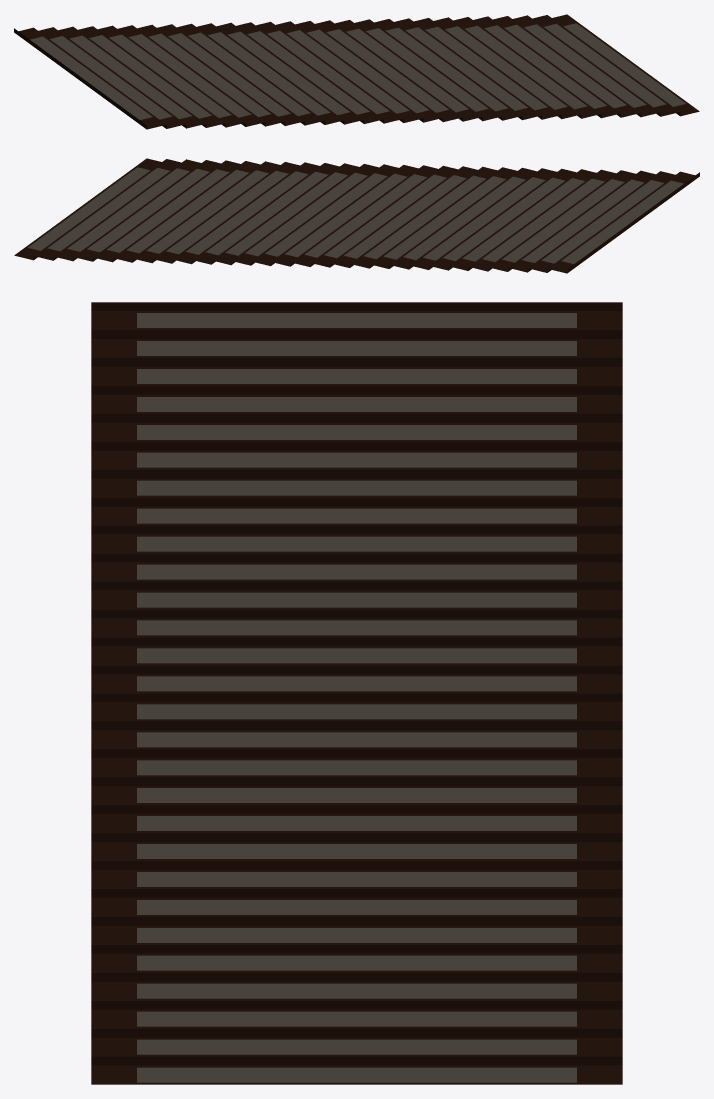
File: 05_EscalerasAbajo.fbx
3 views of the same model, one above another, from view 1: azimuth 30°, elevation 25°; view 2: azimuth 150°, elevation 25°; view 3: azimuth 270°, elevation 25° (orthographic). The views are drawn at different scales.
Visible parts, largest first — view 1: 05_EscalerasAbajo; view 2: 05_EscalerasAbajo; view 3: 05_EscalerasAbajo.
Boxes of the visible parts, x1,y1,x2,y2 form: 05_EscalerasAbajo: (14, 14, 699, 129); 05_EscalerasAbajo: (14, 158, 699, 273); 05_EscalerasAbajo: (91, 302, 622, 1084).
Size of the model in its own units: 2306 by 483 by 959.
